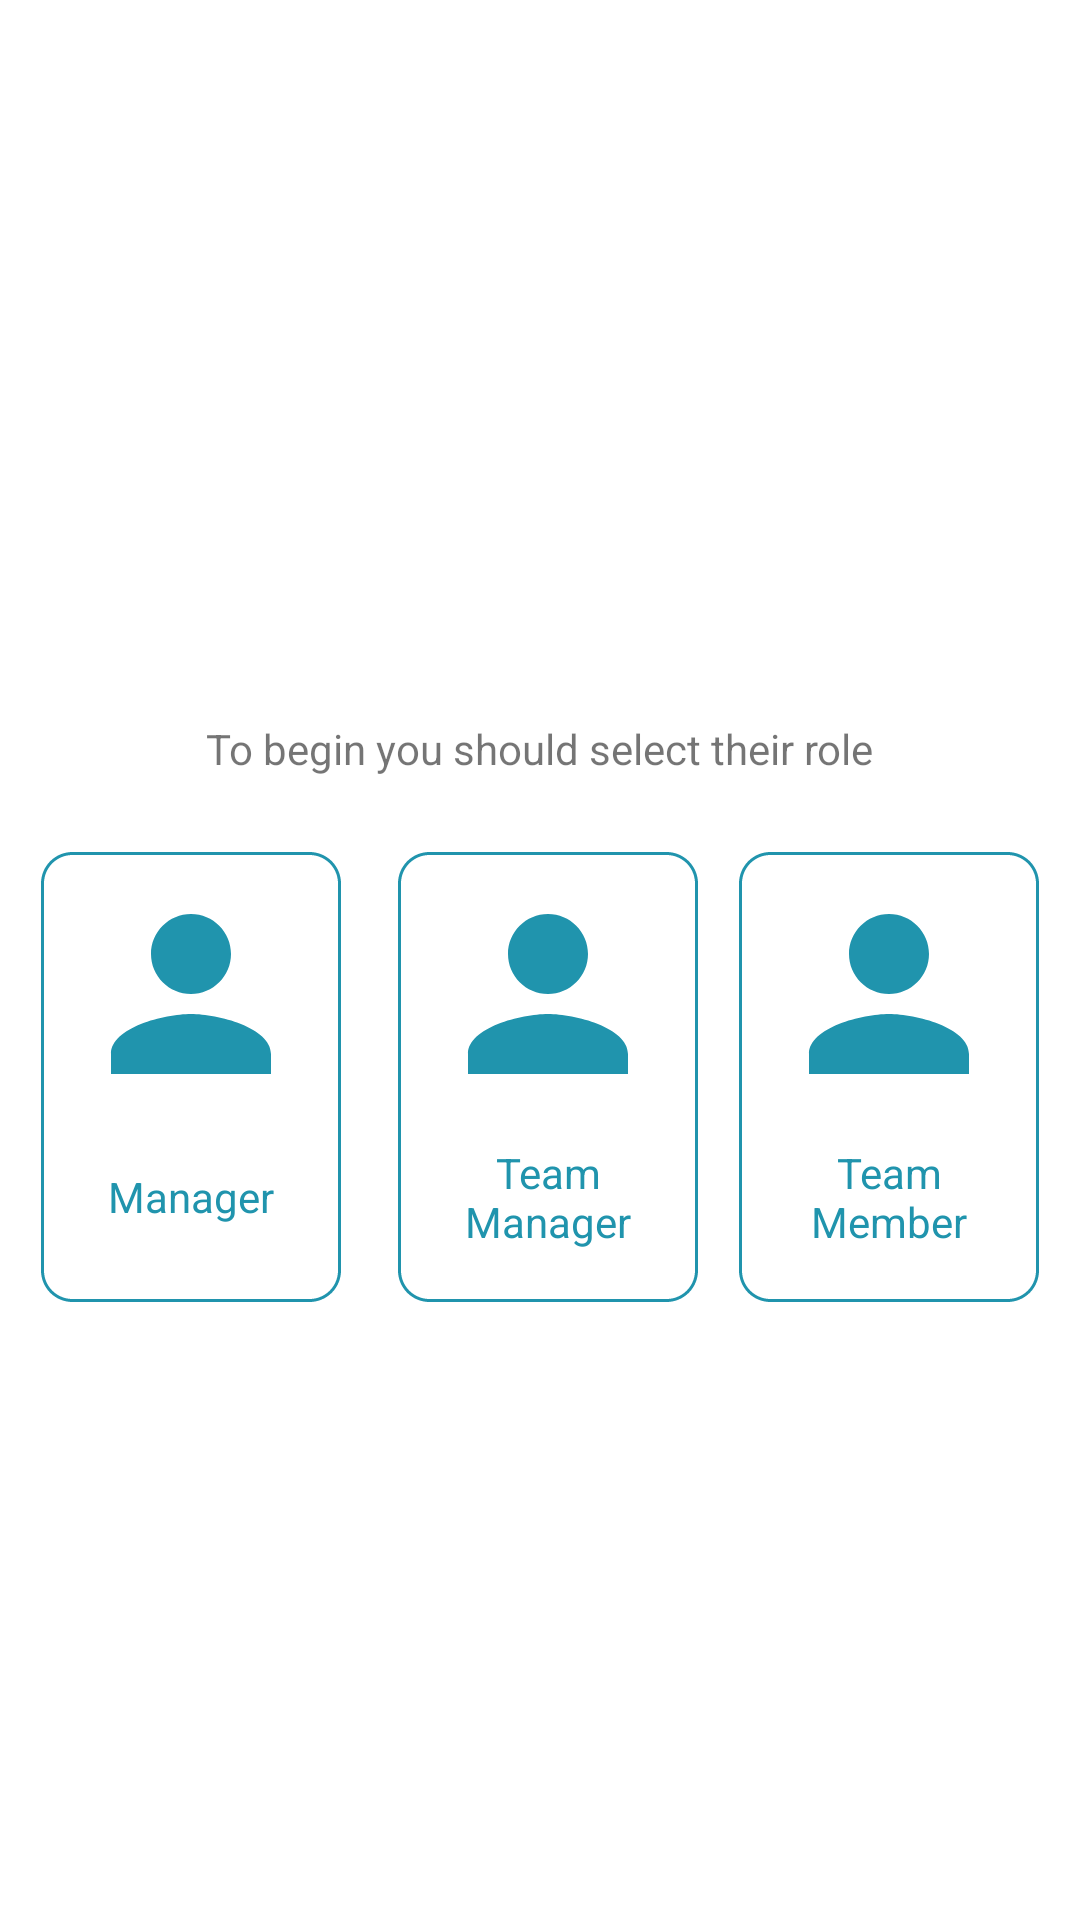

Named icons in this screenshot (1080w x 1920h) and their bounding boxes, bbox=(x1, y1, x2, y2):
person: bbox=(111, 914, 271, 1074), bbox=(468, 914, 628, 1074), bbox=(809, 914, 969, 1074)
